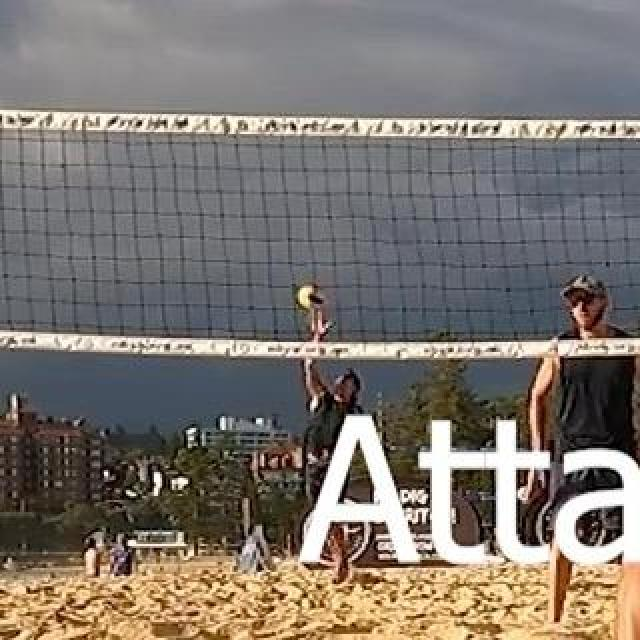volleyball: (298, 285, 324, 313)
